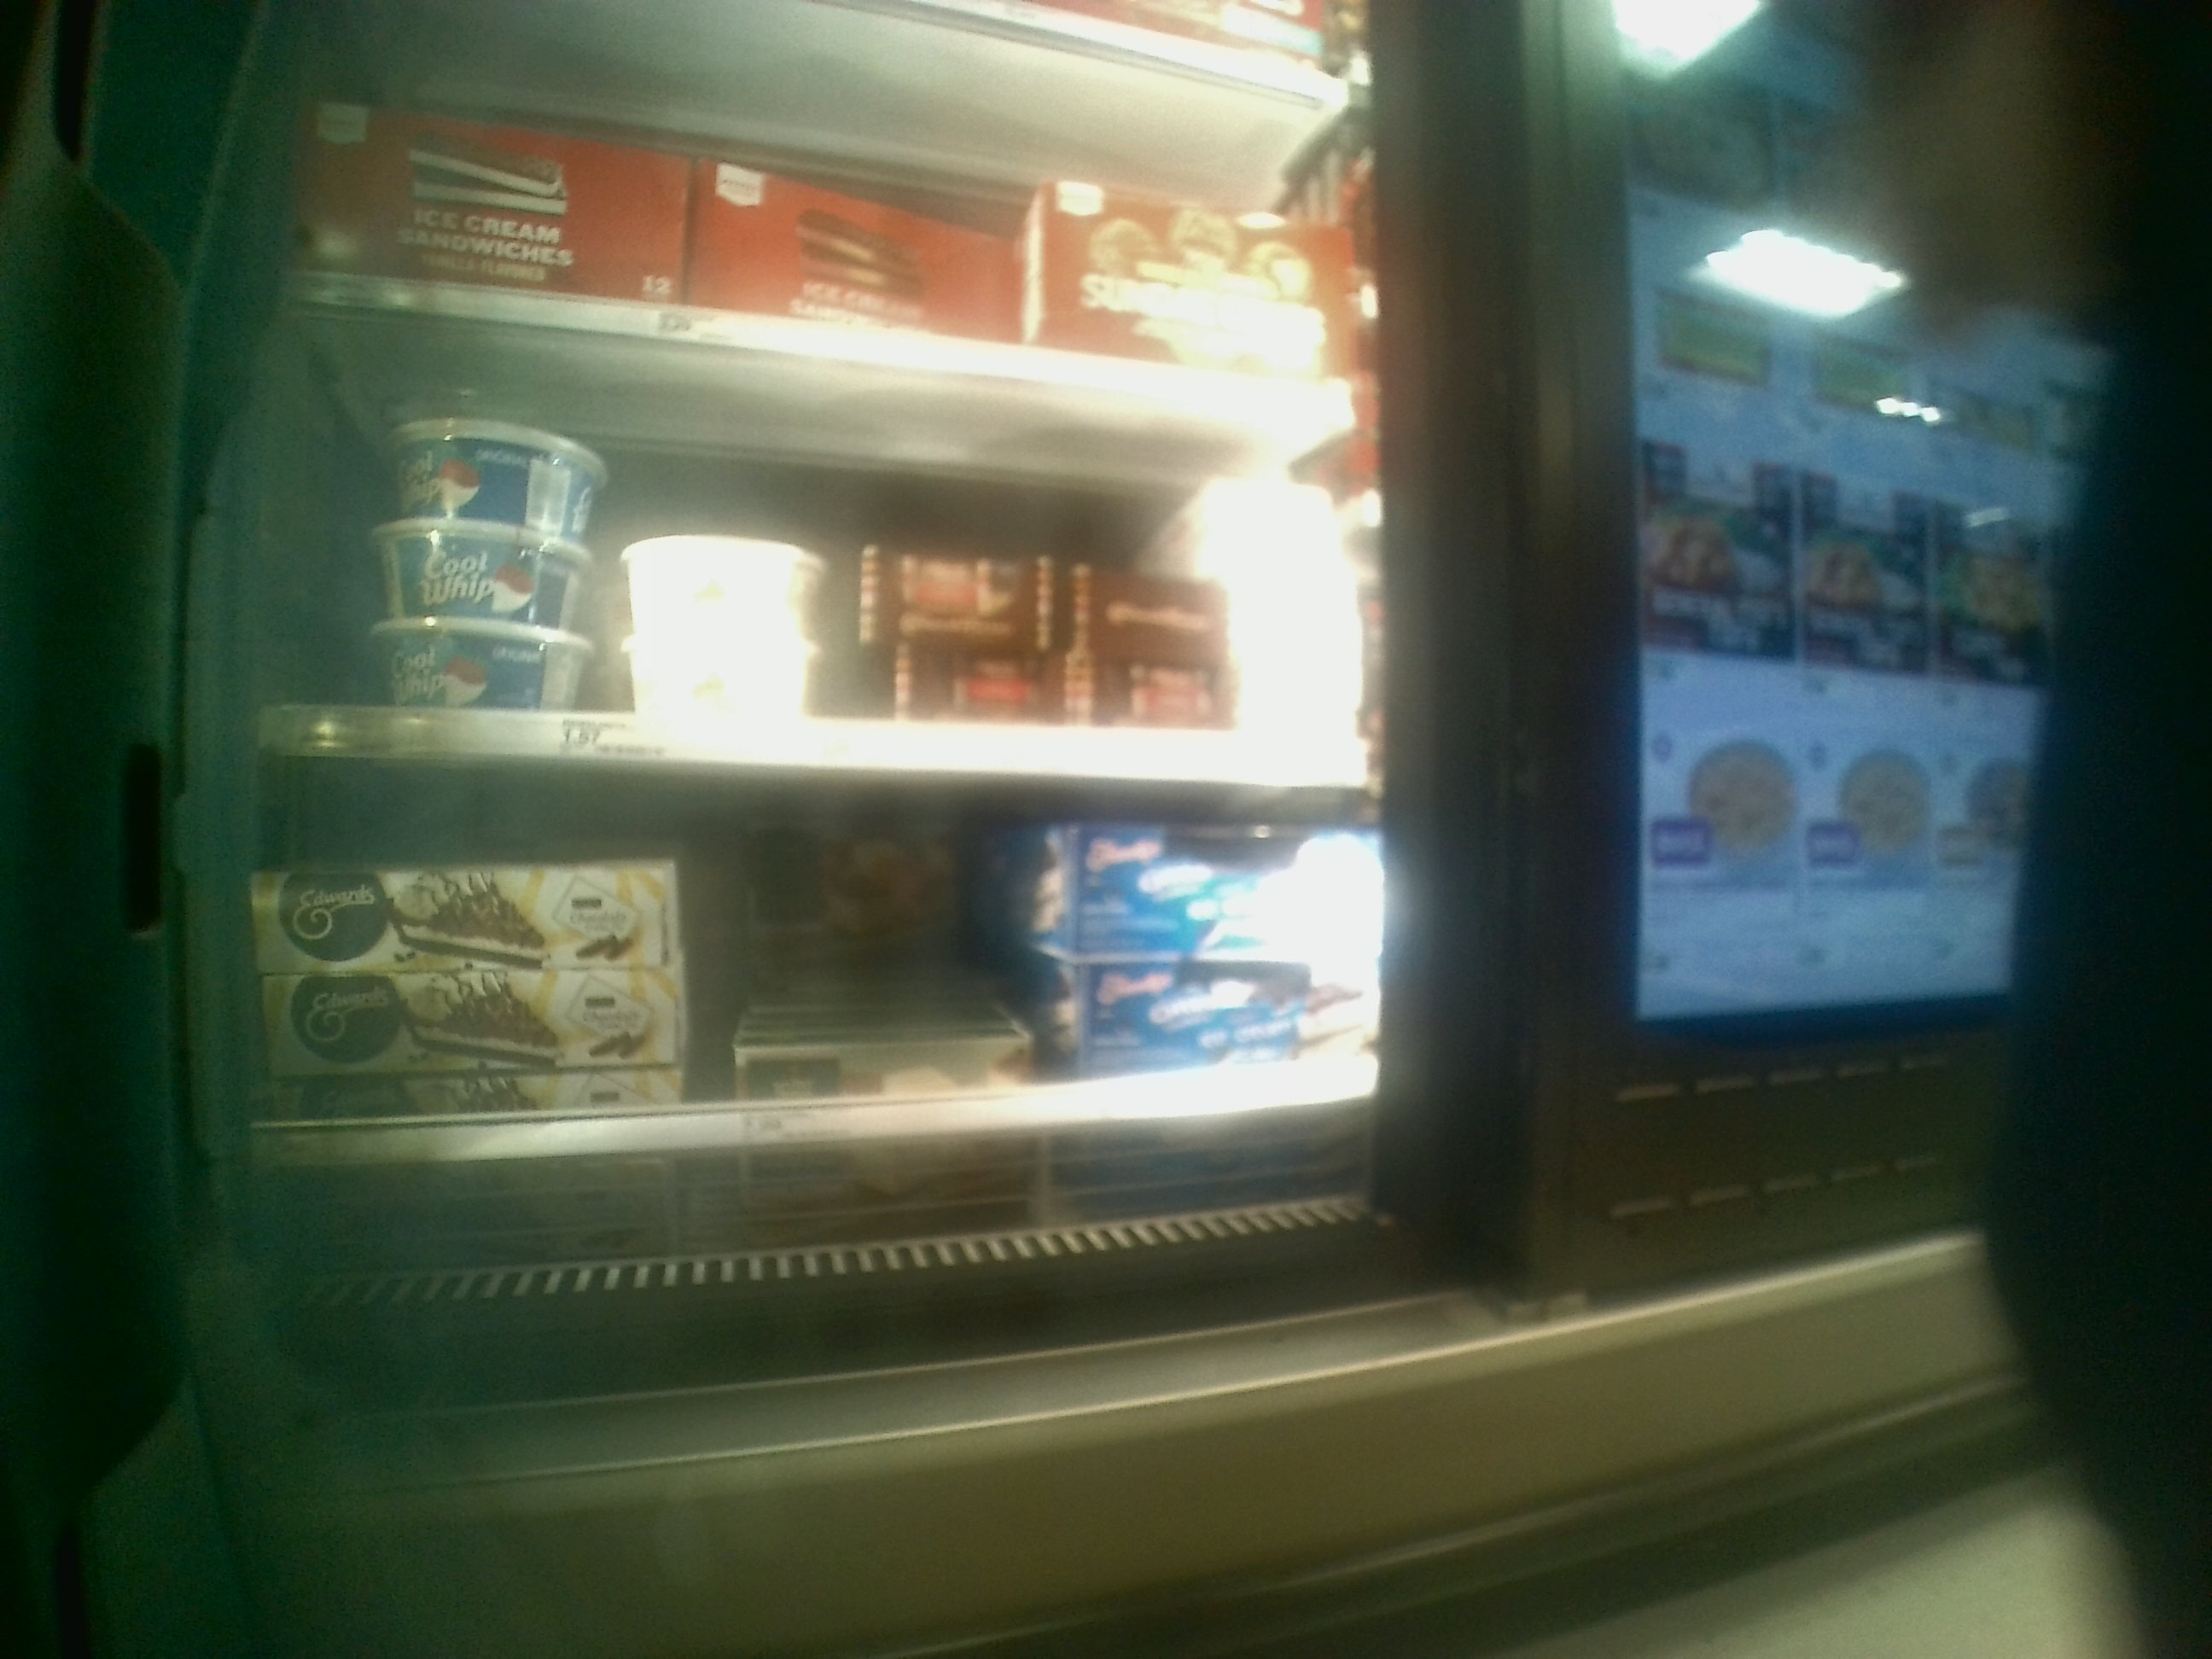shelf: (254, 291, 1379, 791), (244, 763, 1388, 1188)
